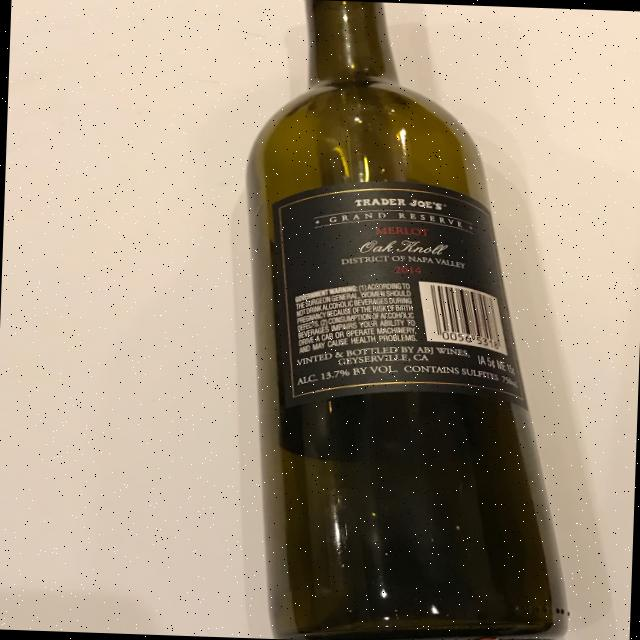glass: (229, 0, 591, 640)
